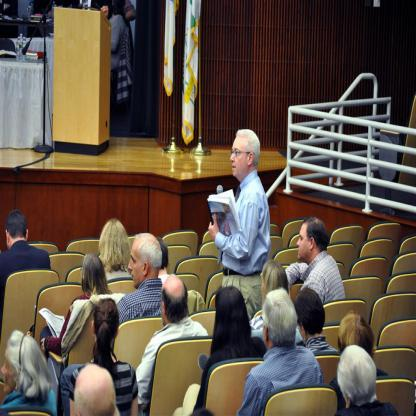face: (129, 246, 146, 289), (231, 139, 250, 177), (3, 351, 20, 392), (298, 227, 313, 261), (298, 311, 306, 344)
